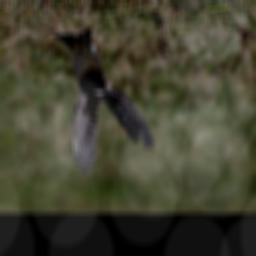Swallow: (54, 28, 154, 176)
